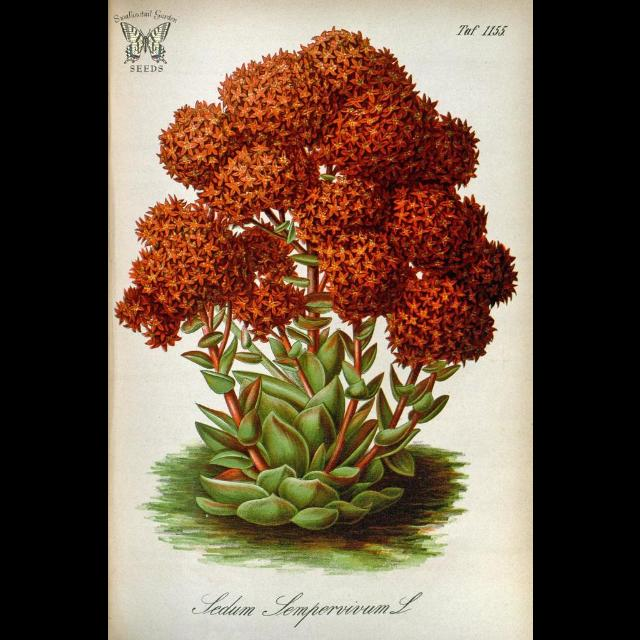Flower: (113, 24, 524, 376)
